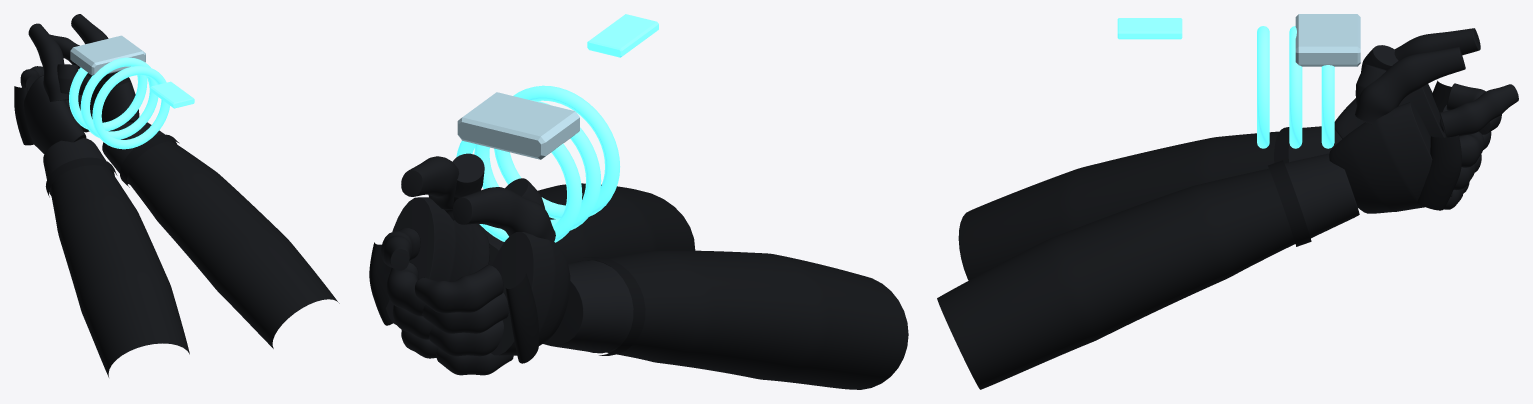
Rendered from hands_glacier_pistol.glb.
The picture shows the model from 3 angles, left to right: view 1: azimuth 30°, elevation 25°; view 2: azimuth 150°, elevation 25°; view 3: azimuth 270°, elevation 25°; orthographic projection. The views are drawn at different scales.
Parts seen in each view (by area): view 1: hand_r_forearm, hand_l_forearm, hand_l_palm, hand_r_coil2, hand_r_coil1, hand_r_cuff_plate, hand_l_thumb, hand_r_coil0, hand_l_cuff, hand_r_palm, hand_r_cuff, hand_r_lamp (+7 smaller); view 2: hand_l_forearm, hand_r_forearm, hand_l_cuff, hand_r_cuff_plate, hand_l_palm, hand_r_palm, hand_r_coil2, hand_l_thumb, hand_l_index, hand_r_thumb, hand_r_coil1, hand_l_knuckle_panel (+13 smaller); view 3: hand_r_forearm, hand_l_forearm, hand_r_palm, hand_r_cuff, hand_r_thumb, hand_r_cuff_plate, hand_r_knuckle_panel, hand_r_index, hand_l_palm, hand_l_thumb, hand_r_coil2, hand_r_cuff_strap (+8 smaller).
Part boxes in pixels (x1,y1,x2,y2): hand_r_forearm: (127,141,339,348); hand_l_forearm: (50,165,189,377); hand_l_palm: (24,75,86,153); hand_r_coil2: (92,66,169,149); hand_r_coil1: (80,57,158,139); hand_r_cuff_plate: (70,35,145,75); hand_l_thumb: (28,23,69,101); hand_r_coil0: (69,67,147,130); hand_l_cuff: (43,138,114,195); hand_r_palm: (90,78,139,131); hand_r_cuff: (102,122,176,184); hand_r_lamp: (150,81,194,108); hand_l_forearm: (597,250,908,389); hand_r_forearm: (537,183,695,263); hand_l_cuff: (543,260,633,353); hand_r_cuff_plate: (457,92,579,159); hand_l_palm: (491,232,570,355); hand_r_palm: (386,197,489,324); hand_r_coil2: (494,85,620,219); hand_l_thumb: (452,187,555,242); hand_l_index: (414,264,503,313); hand_r_thumb: (401,156,459,220); hand_r_coil1: (474,100,601,230); hand_l_knuckle_panel: (505,273,538,363); hand_r_forearm: (937,168,1295,389); hand_l_forearm: (958,131,1278,280); hand_r_palm: (1329,102,1453,213); hand_r_cuff: (1284,153,1359,238); hand_r_thumb: (1354,47,1465,124); hand_r_cuff_plate: (1295,14,1360,66); hand_r_knuckle_panel: (1417,135,1461,210); hand_r_index: (1439,84,1518,137); hand_l_palm: (1334,84,1445,138); hand_l_thumb: (1394,28,1480,60); hand_r_coil2: (1257,26,1269,148); hand_r_cuff_strap: (1268,160,1311,246).
Bounding box in the file's own units: 0.2176 × 0.2248 × 0.3592.
